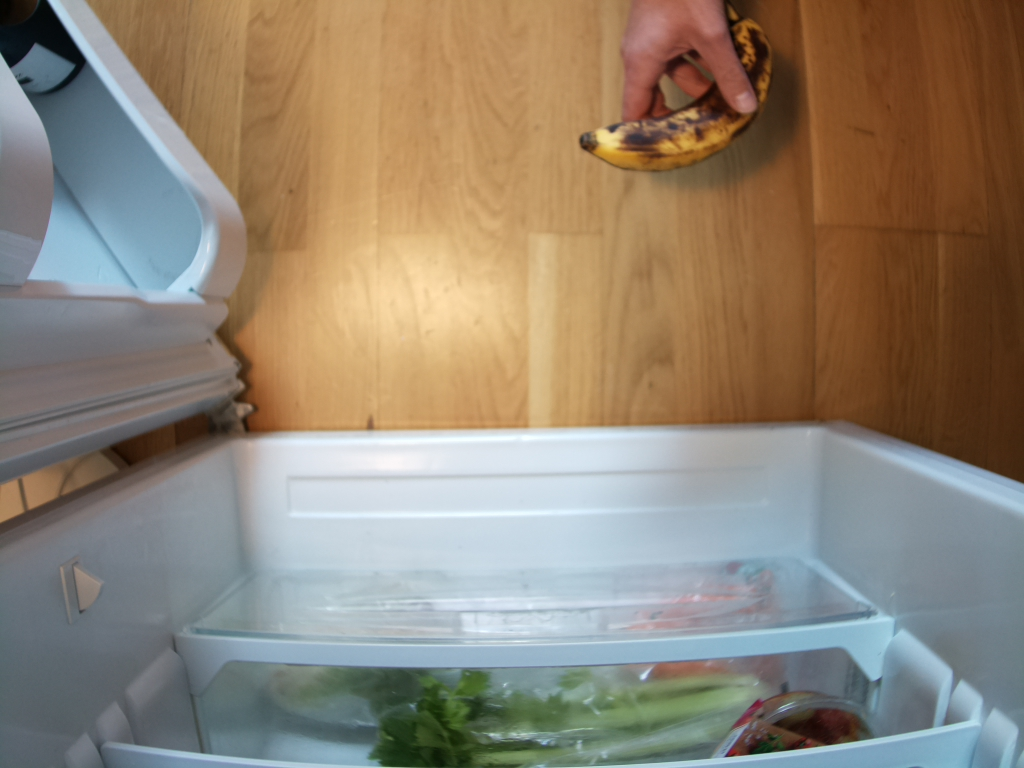banana-overripe: (580, 1, 770, 173)
